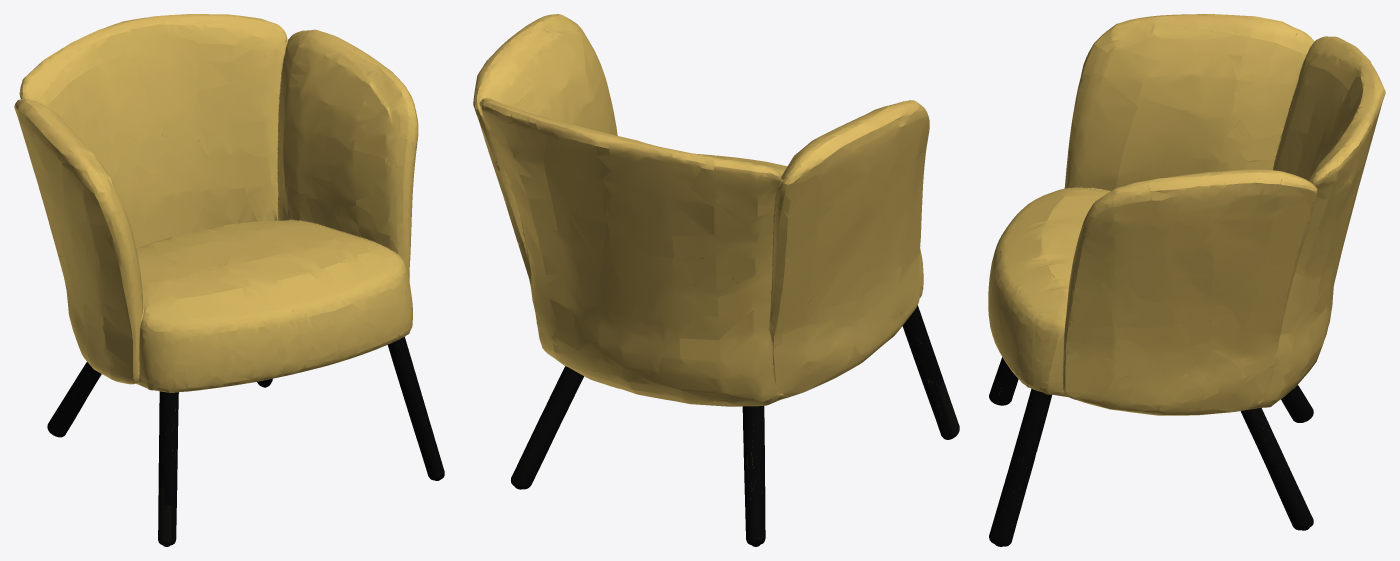
The picture shows the model from 3 angles, left to right: view 1: azimuth 30°, elevation 25°; view 2: azimuth 150°, elevation 25°; view 3: azimuth 270°, elevation 25°; orthographic projection. The views are drawn at different scales.
Size of the model in its own units: 0.7014 by 0.73 by 0.674.
1 material, 1 textured.
